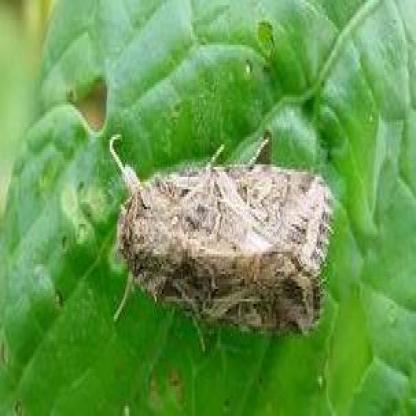armyworm: (99, 116, 340, 356)
